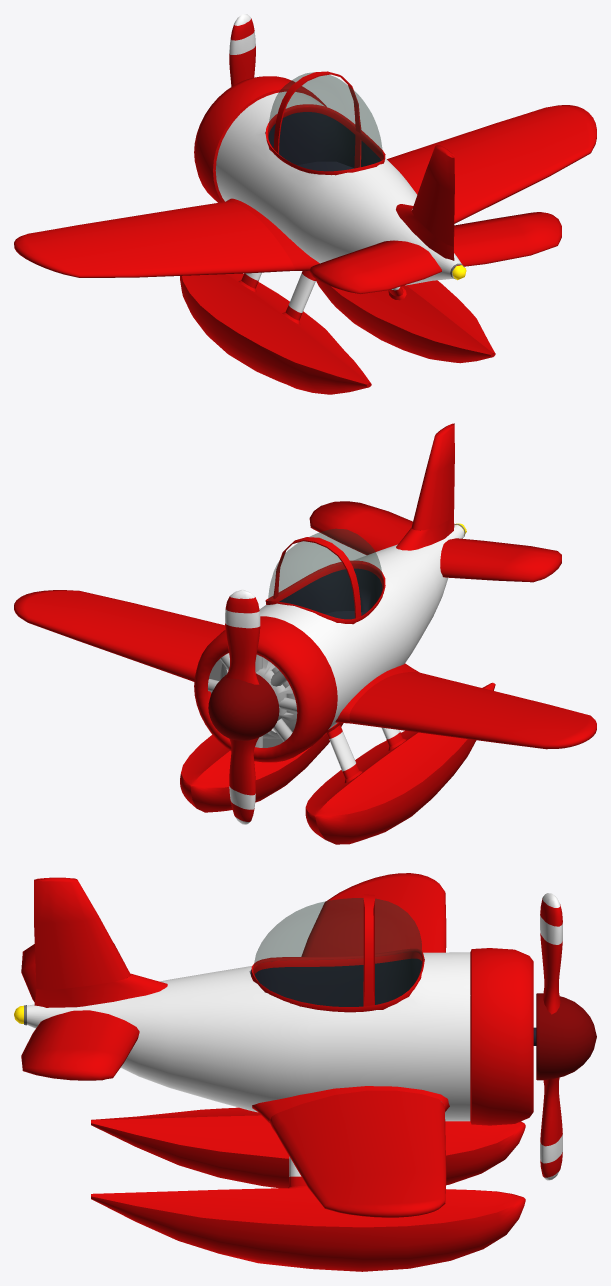
3 views of the same model, one above another, from view 1: azimuth 30°, elevation 25°; view 2: azimuth 150°, elevation 25°; view 3: azimuth 270°, elevation 25° (orthographic). The views are drawn at different scales.
Visible parts, largest first — view 1: body, propeller; view 2: body, propeller; view 3: body, propeller.
Part boxes in pixels (x1=…): body: x1=14, y1=71, x2=596, y2=394; propeller: x1=229, y1=14, x2=255, y2=86; body: x1=14, y1=423, x2=596, y2=844; propeller: x1=208, y1=589, x2=279, y2=824; body: x1=14, y1=873, x2=533, y2=1271; propeller: x1=533, y1=893, x2=596, y2=1180.
Size of the model in its own units: 9.36 by 4.55 by 6.8.
